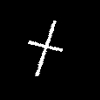single_crochet: (28, 21, 62, 75)
